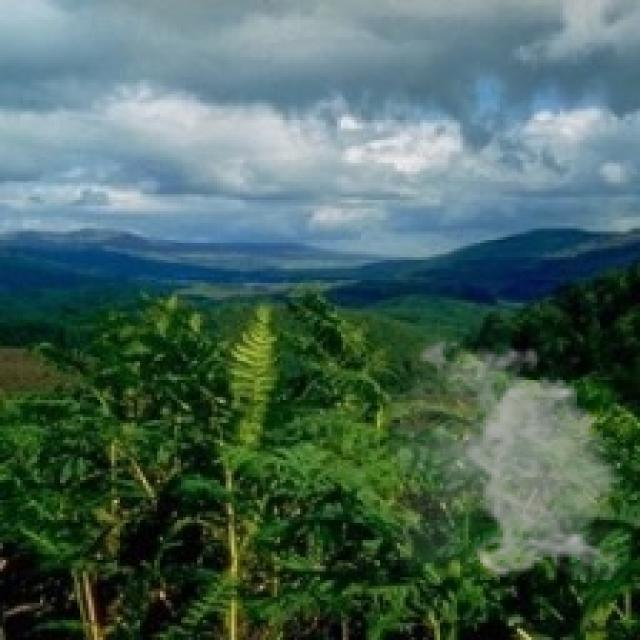Smoke: (392, 331, 632, 580)
